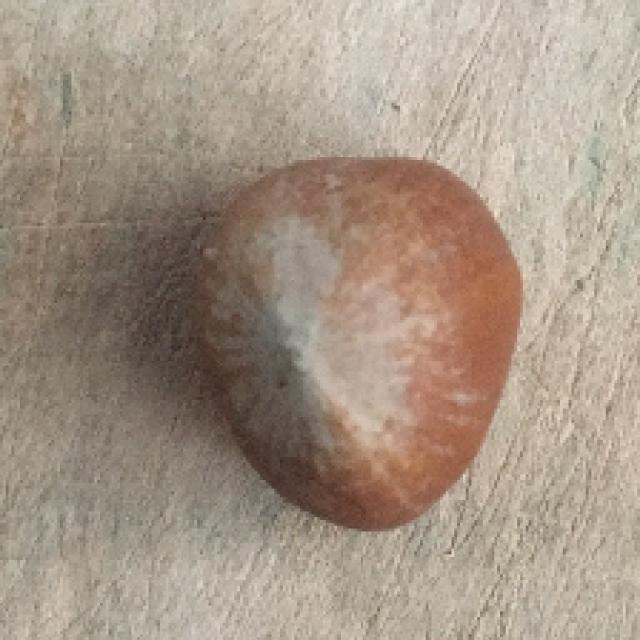qualityHazelnut: (178, 141, 517, 534)
